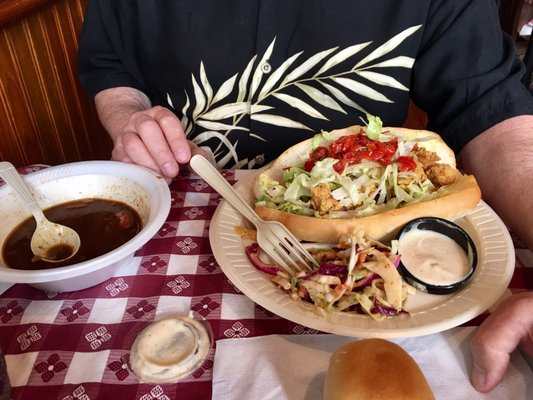salad: (0, 161, 82, 265)
sushi: (0, 160, 171, 297)
